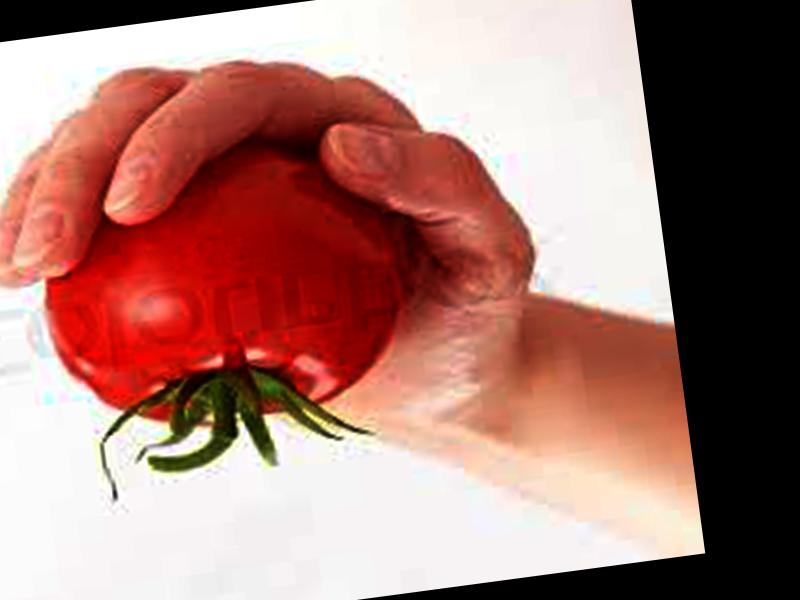Tomato: (28, 127, 412, 446)
